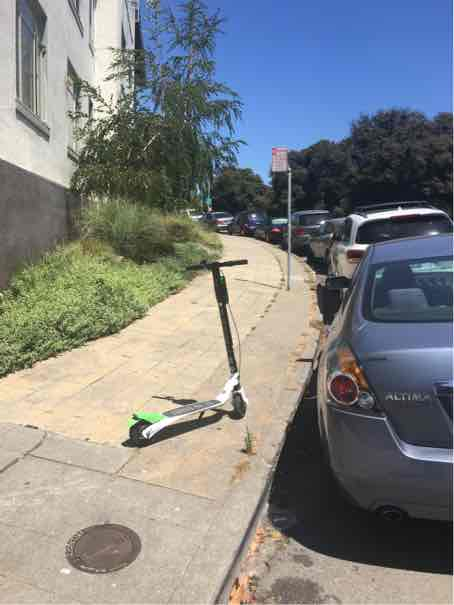scooter: (121, 239, 255, 459)
